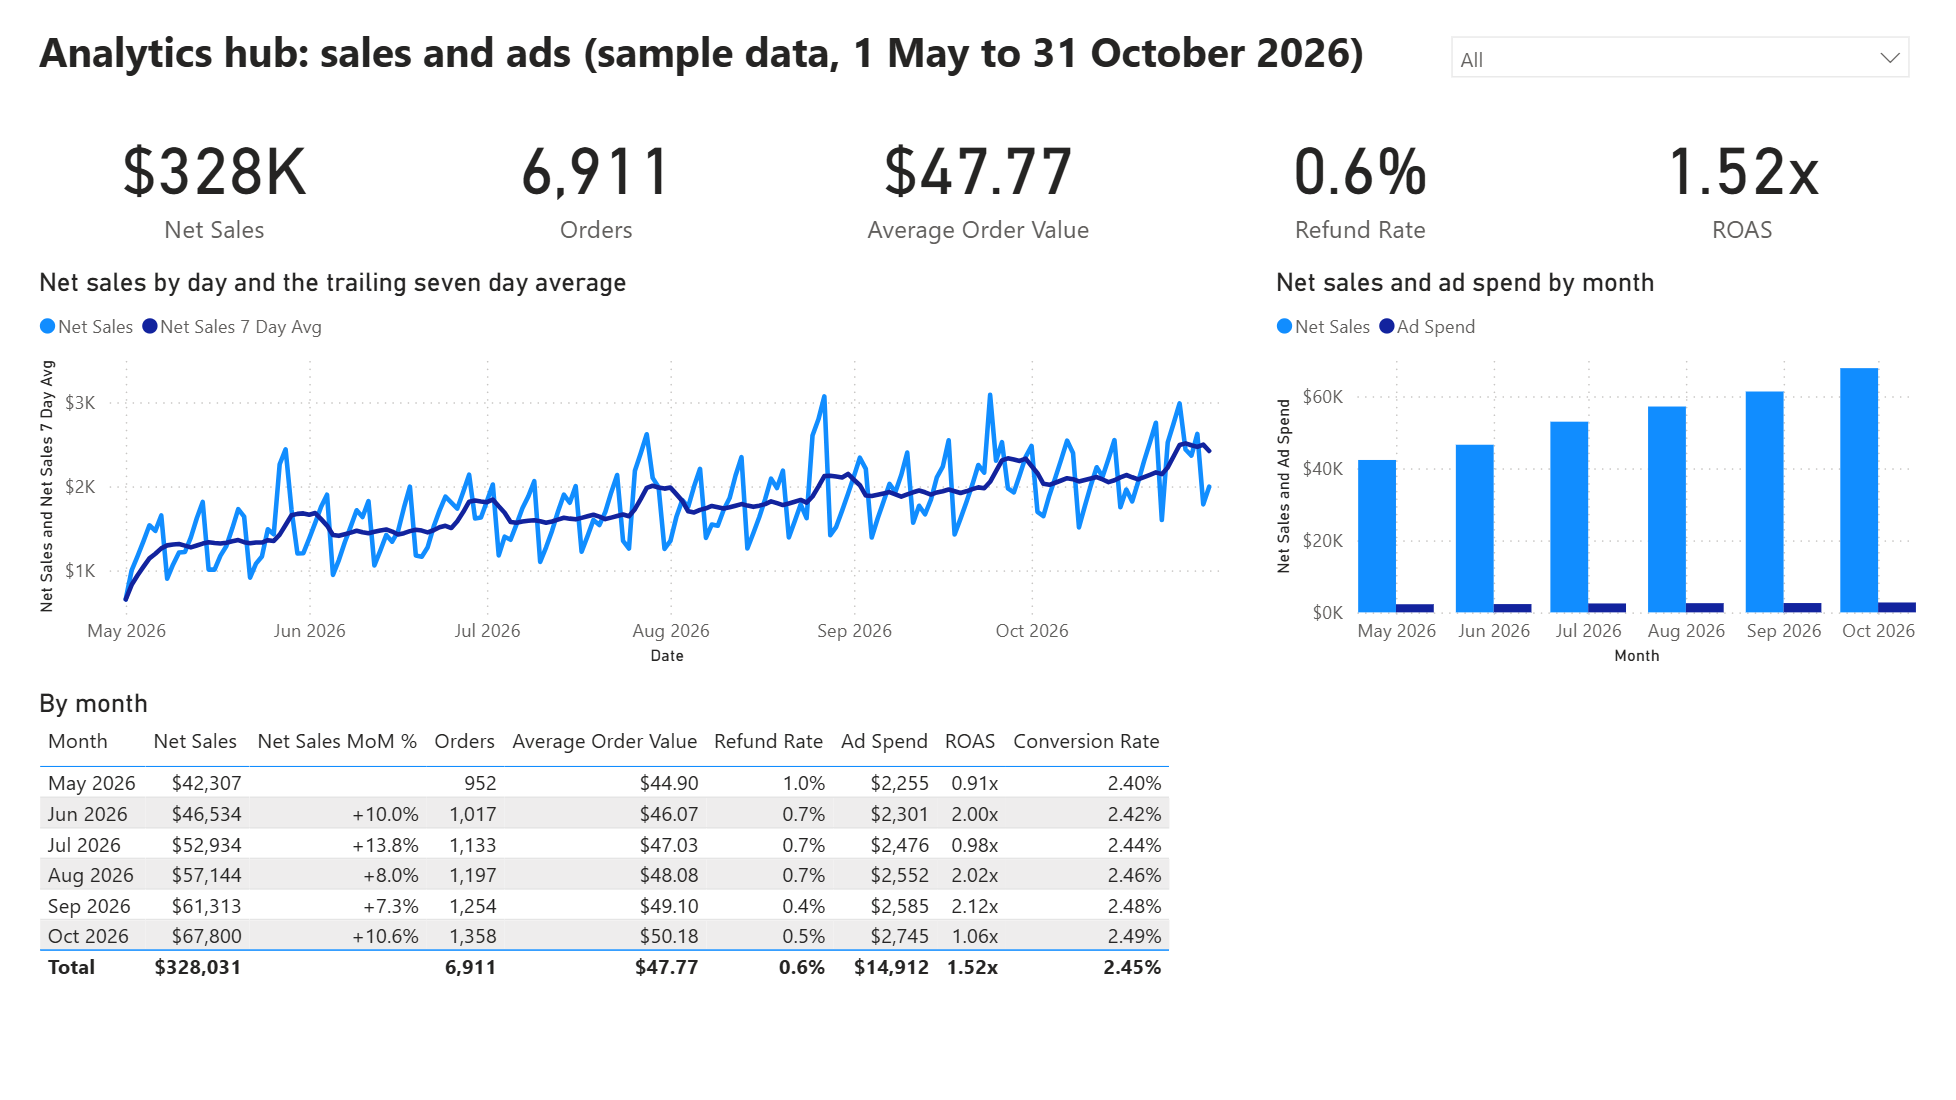

The dashboard page shown, as its layout file describes it:
{"tool":"powerbi","page":{"name":"Sales and ads","canvas":[1280,720],"ordinal":0},"visuals":[{"type":"textbox","box":[20,10,900,50],"z":1},{"type":"slicer","fields":{"Values":["Date.Month"]},"box":[940,14,320,44],"z":2},{"type":"card","fields":{"Values":["Snapshot.Net Sales"]},"box":[20,70,240,95],"z":3},{"type":"card","fields":{"Values":["Snapshot.Orders"]},"box":[270,70,240,95],"z":4},{"type":"card","fields":{"Values":["Snapshot.Average Order Value"]},"box":[520,70,240,95],"z":5},{"type":"card","fields":{"Values":["Snapshot.Refund Rate"]},"box":[770,70,240,95],"z":6},{"type":"card","fields":{"Values":["Snapshot.ROAS"]},"box":[1020,70,240,95],"z":7},{"type":"lineChart","title":"Net sales by day and the trailing seven day average","fields":{"Category":["Date.Date"],"Y":["Snapshot.Net Sales","Snapshot.Net Sales 7 Day Avg"]},"box":[20,175,800,265],"z":8},{"type":"clusteredColumnChart","title":"Net sales and ad spend by month","fields":{"Category":["Date.Month"],"Y":["Snapshot.Net Sales","Snapshot.Ad Spend"]},"box":[830,175,430,265],"z":9},{"type":"tableEx","title":"By month","fields":{"Values":["Date.Month","Snapshot.Net Sales","Snapshot.Net Sales MoM %","Snapshot.Orders","Snapshot.Average Order Value","Snapshot.Refund Rate","Snapshot.Ad Spend","Snapshot.ROAS","Snapshot.Conversion Rate"]},"box":[20,450,1240,260],"z":10}]}

Visuals, with their boxes in screenshot pixels (x1, y1, x2, y2), scaled from the page's 1280x720 canvas onto the 1956x1100 screenshot:
textbox: bbox=(31, 15, 1406, 92)
slicer - Date.Month: bbox=(1436, 21, 1925, 89)
card - Snapshot.Net Sales: bbox=(31, 107, 397, 252)
card - Snapshot.Orders: bbox=(413, 107, 779, 252)
card - Snapshot.Average Order Value: bbox=(795, 107, 1161, 252)
card - Snapshot.Refund Rate: bbox=(1177, 107, 1543, 252)
card - Snapshot.ROAS: bbox=(1559, 107, 1925, 252)
"Net sales by day and the trailing seven day average" lineChart: bbox=(31, 267, 1253, 672)
"Net sales and ad spend by month" clusteredColumnChart: bbox=(1268, 267, 1925, 672)
"By month" tableEx: bbox=(31, 688, 1925, 1085)
